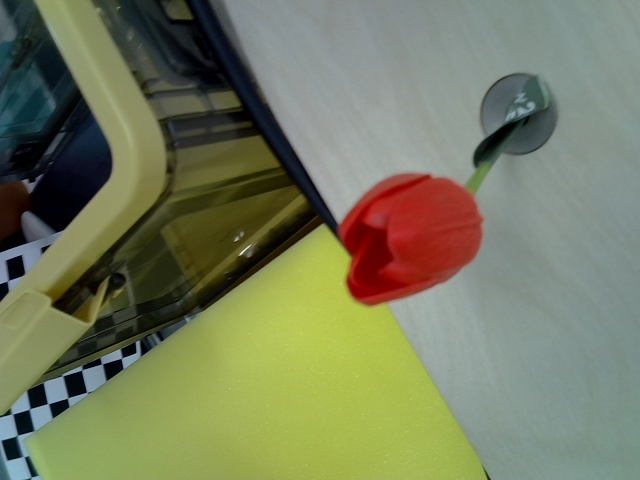튤립: (337, 175, 485, 309)
